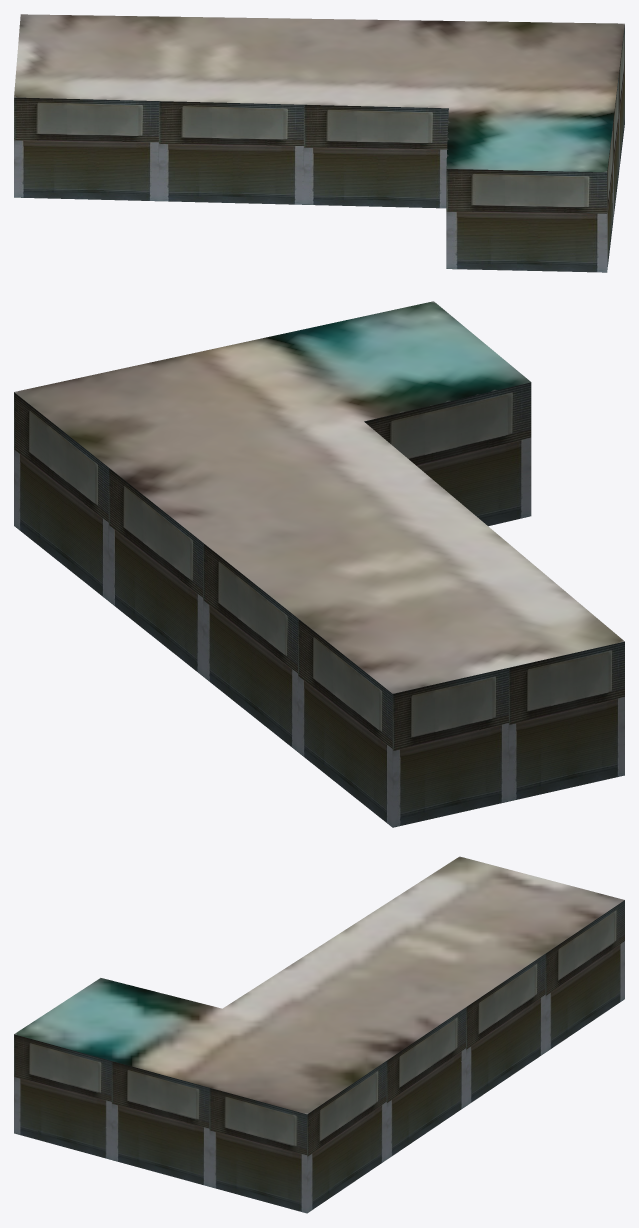
The model's file is T_1SWPL4P2FC.dae.
3 views of the same model, one above another, from view 1: azimuth 30°, elevation 25°; view 2: azimuth 150°, elevation 25°; view 3: azimuth 270°, elevation 25° (orthographic). The views are drawn at different scales.
Visible parts, largest first — view 1: SketchUp (×4); view 2: SketchUp (×4); view 3: SketchUp (×3).
Boxes of the visible parts, x1,y1,x2,y2 form: SketchUp (×4): (14,14,624,272); SketchUp (×4): (14,301,624,827); SketchUp (×3): (14,856,624,1213).
Size of the model in its own units: 22.94 by 22.96 by 4.11.
Materials: 2 (2 with a texture image).
